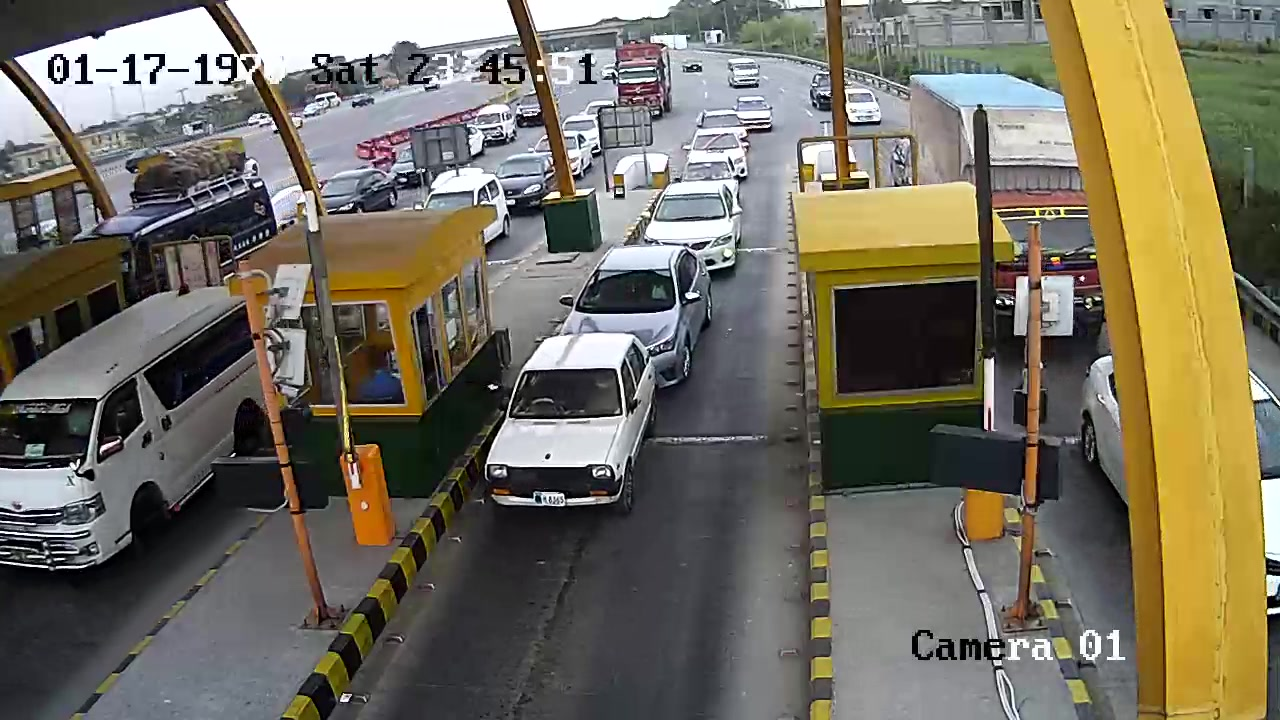F1: (483, 333, 661, 526)
